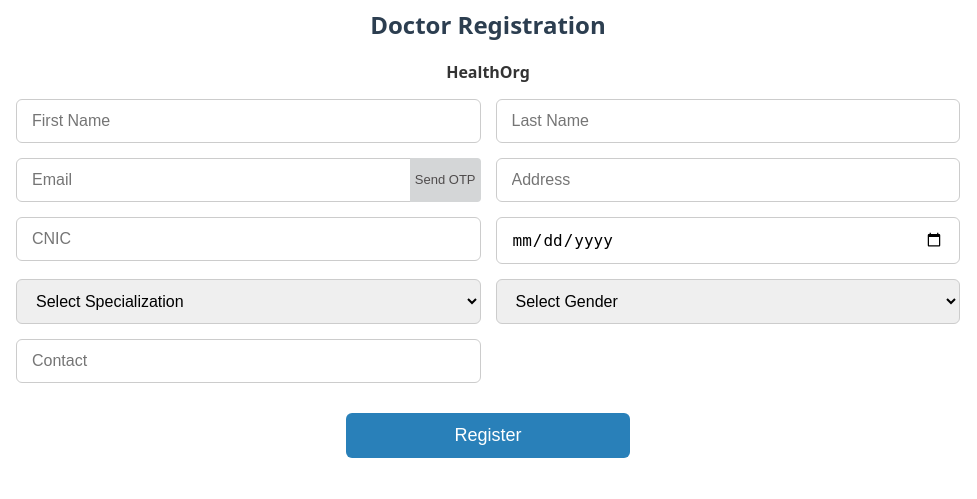
Test: DoctorRegister Component › validates name fields to allow only letters
Type "John123" into the field with placeholder "First Name" at (248, 121), box [16,99,480,143]
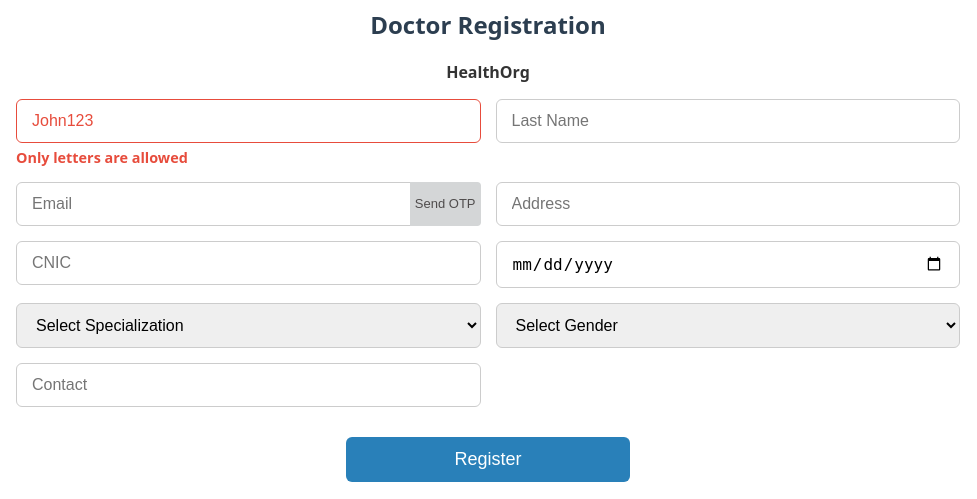
Expected: the text "Only letters are allowed" is shown, [16,148,188,167]
Replace the text in the field with placeholder "First Name" with "John" at (248, 121), box [16,99,480,143]
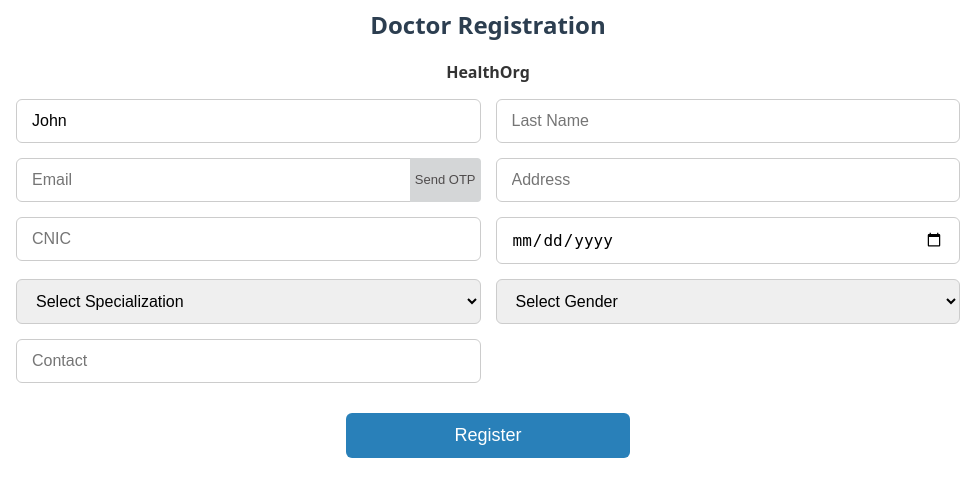
Expected: the text "Only letters" is gone
